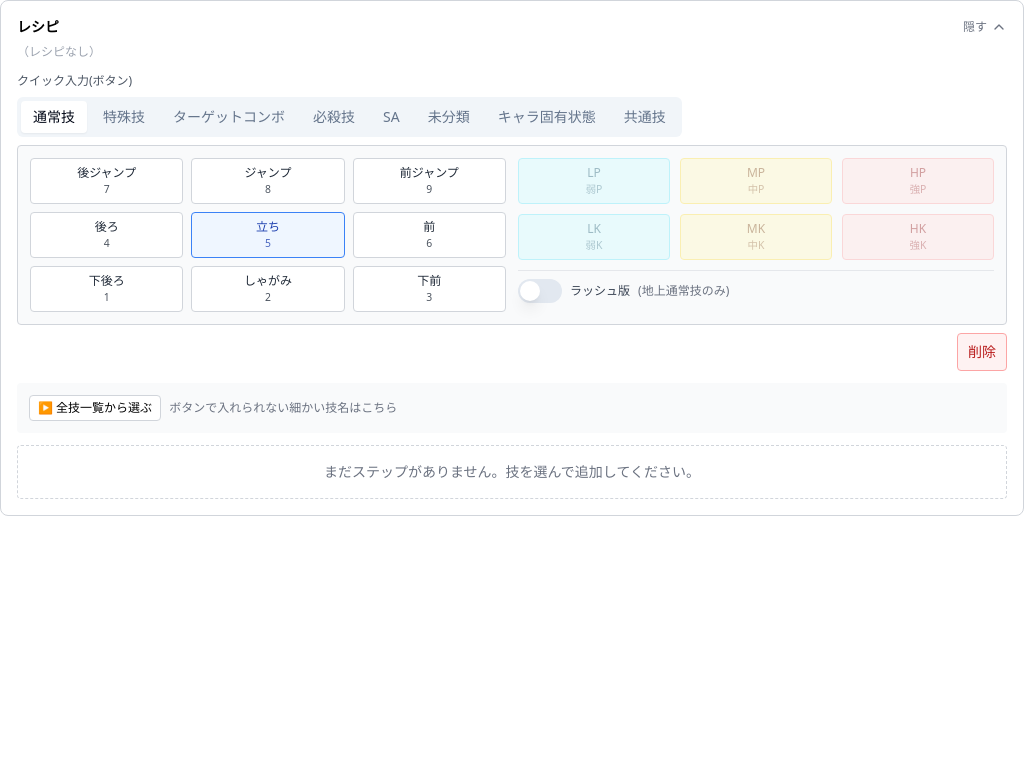
★★M30-02(SD-020): 全技一覧の補足欄の OD 強度組合せ › ★対照: OD 技を選ぶと節が現れる。★ただし既定は畳まれている
Click the button with test id "recipe-pulldown-toggle": (95, 408) [29,395,161,421]
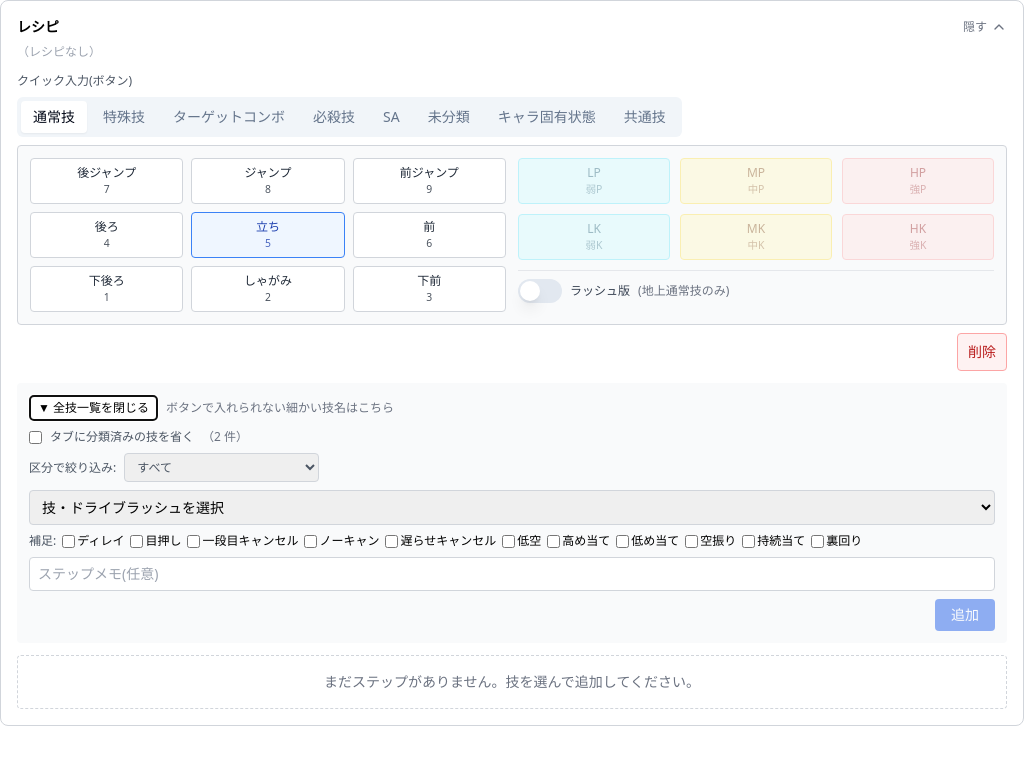
Select "OD波動拳" in the dropdown with test id "recipe-move-select": (512, 508) [29,490,995,525]
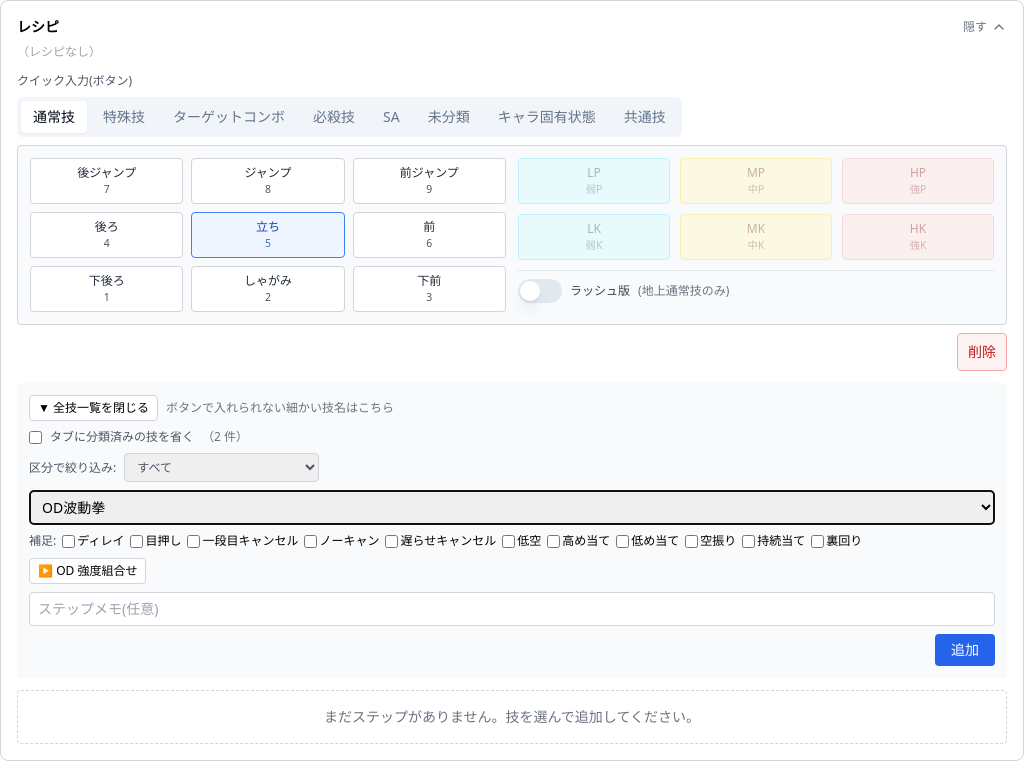
Now the element with test id "recipe-od-variant-section-inline" is shown, box [29,558,146,584]
